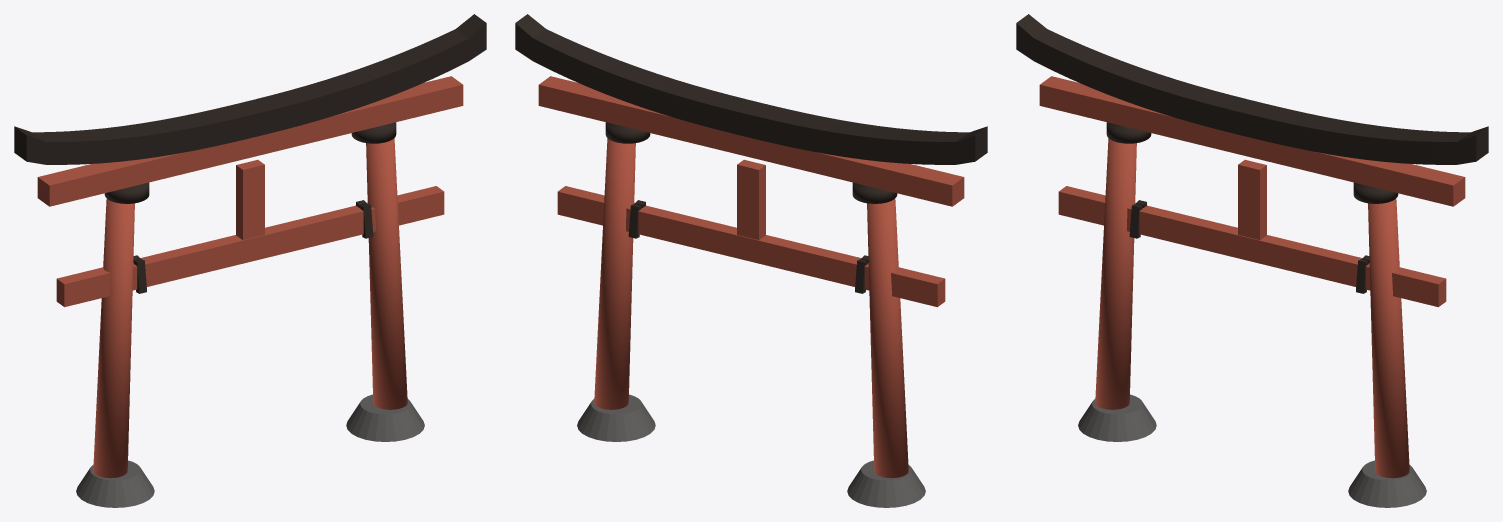
Rendered from torii-blender.glb.
The picture shows the model from 3 angles, left to right: view 1: azimuth 30°, elevation 25°; view 2: azimuth 150°, elevation 25°; view 3: azimuth 330°, elevation 25°; orthographic projection.
Parts seen in each view (by area): view 1: kasagi, shimaki, nuki, pillar_-1, pillar_1, base_1, base_-1, gakuzuka, daiwa_-1, daiwa_1; view 2: kasagi, shimaki, nuki, pillar_-1, pillar_1, base_1, base_-1, gakuzuka, daiwa_-1, daiwa_1; view 3: kasagi, shimaki, nuki, pillar_1, pillar_-1, base_-1, base_1, gakuzuka, daiwa_1, daiwa_-1.
Boxes of the visible parts, x1=… form: kasagi: x1=14, y1=14, x2=486, y2=164; shimaki: x1=37, y1=76, x2=463, y2=206; nuki: x1=56, y1=186, x2=444, y2=307; pillar_-1: x1=93, y1=198, x2=134, y2=478; pillar_1: x1=366, y1=138, x2=407, y2=409; base_1: x1=346, y1=394, x2=424, y2=441; base_-1: x1=76, y1=460, x2=154, y2=507; gakuzuka: x1=236, y1=159, x2=264, y2=239; daiwa_-1: x1=104, y1=182, x2=149, y2=203; daiwa_1: x1=351, y1=122, x2=396, y2=143; kasagi: x1=515, y1=14, x2=987, y2=164; shimaki: x1=538, y1=76, x2=964, y2=206; nuki: x1=557, y1=186, x2=945, y2=307; pillar_-1: x1=867, y1=198, x2=908, y2=478; pillar_1: x1=594, y1=138, x2=635, y2=409; base_1: x1=577, y1=394, x2=655, y2=441; base_-1: x1=847, y1=460, x2=925, y2=507; gakuzuka: x1=737, y1=159, x2=765, y2=239; daiwa_-1: x1=852, y1=182, x2=897, y2=203; daiwa_1: x1=605, y1=122, x2=650, y2=143; kasagi: x1=1016, y1=14, x2=1488, y2=164; shimaki: x1=1039, y1=76, x2=1465, y2=206; nuki: x1=1058, y1=186, x2=1446, y2=307; pillar_1: x1=1368, y1=198, x2=1409, y2=478; pillar_-1: x1=1095, y1=138, x2=1136, y2=409; base_-1: x1=1078, y1=394, x2=1156, y2=441; base_1: x1=1348, y1=460, x2=1426, y2=507; gakuzuka: x1=1238, y1=159, x2=1266, y2=239; daiwa_1: x1=1353, y1=182, x2=1398, y2=203; daiwa_-1: x1=1106, y1=122, x2=1151, y2=143.
Bounding box in the file's own units: 10.9 × 8.8 × 1.62.
